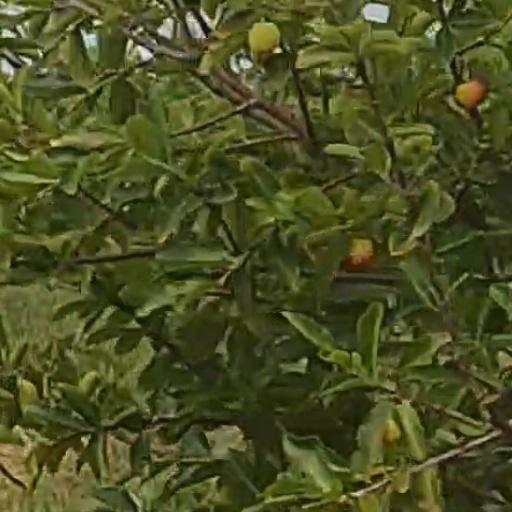acerola_verde: (250, 22, 278, 51)
acerola_vermelha: (455, 79, 486, 105), (349, 254, 373, 272)
